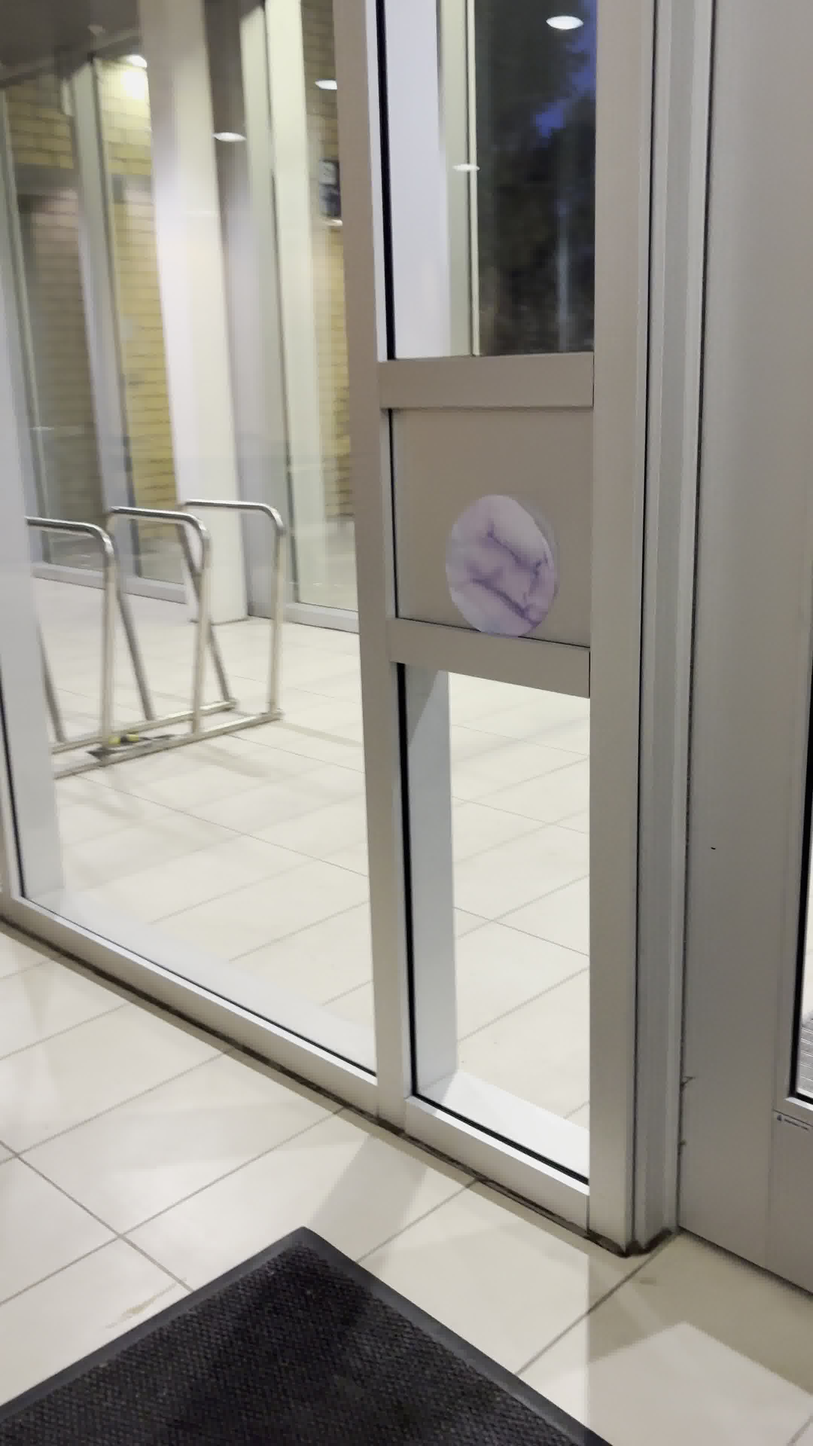Target: (442, 492, 560, 641)
